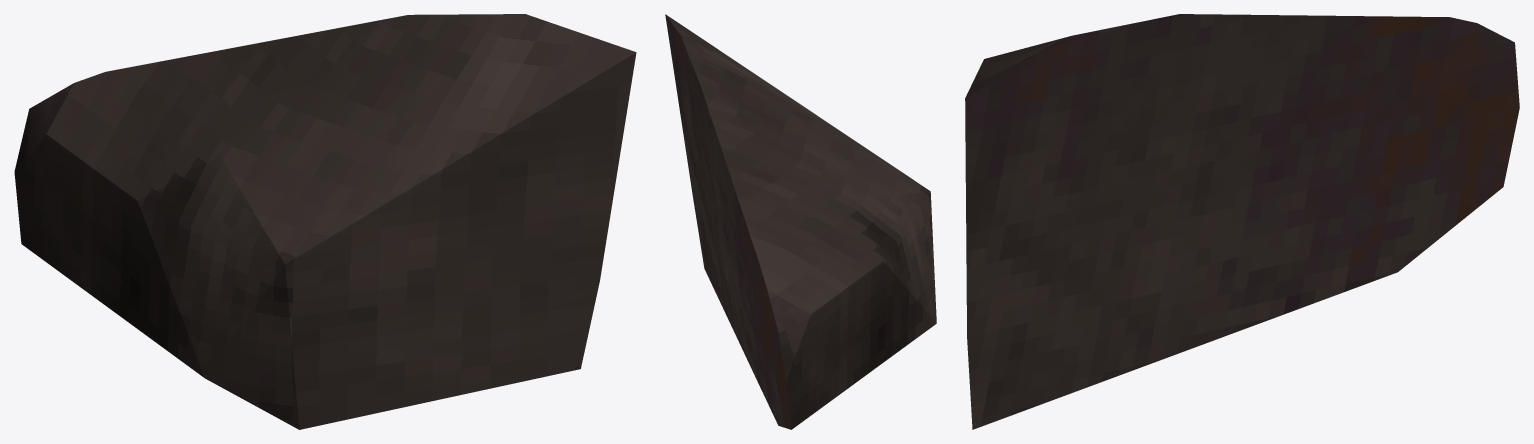
Rendered from debry_04.glb.
3 views of the same model, side by side, from view 1: azimuth 30°, elevation 25°; view 2: azimuth 150°, elevation 25°; view 3: azimuth 270°, elevation 25° (orthographic). The views are drawn at different scales.
Visible parts, largest first — view 1: debry_04; view 2: debry_04; view 3: debry_04.
Part boxes in pixels (box(x1,y1,x2,y2)): debry_04: box(14, 14, 636, 429); debry_04: box(665, 14, 936, 429); debry_04: box(965, 14, 1519, 429).
Size of the model in its own units: 1.37 by 1.1 by 1.44.
1 material, 1 textured.
